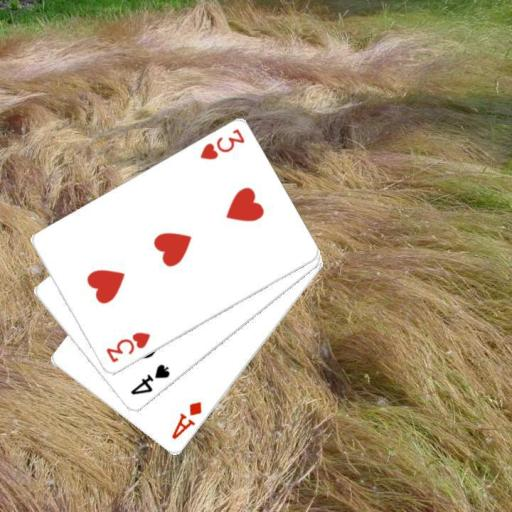3H: (103, 329, 153, 365), (196, 126, 246, 162)
4S: (128, 361, 172, 397)
AD: (168, 398, 204, 442)
